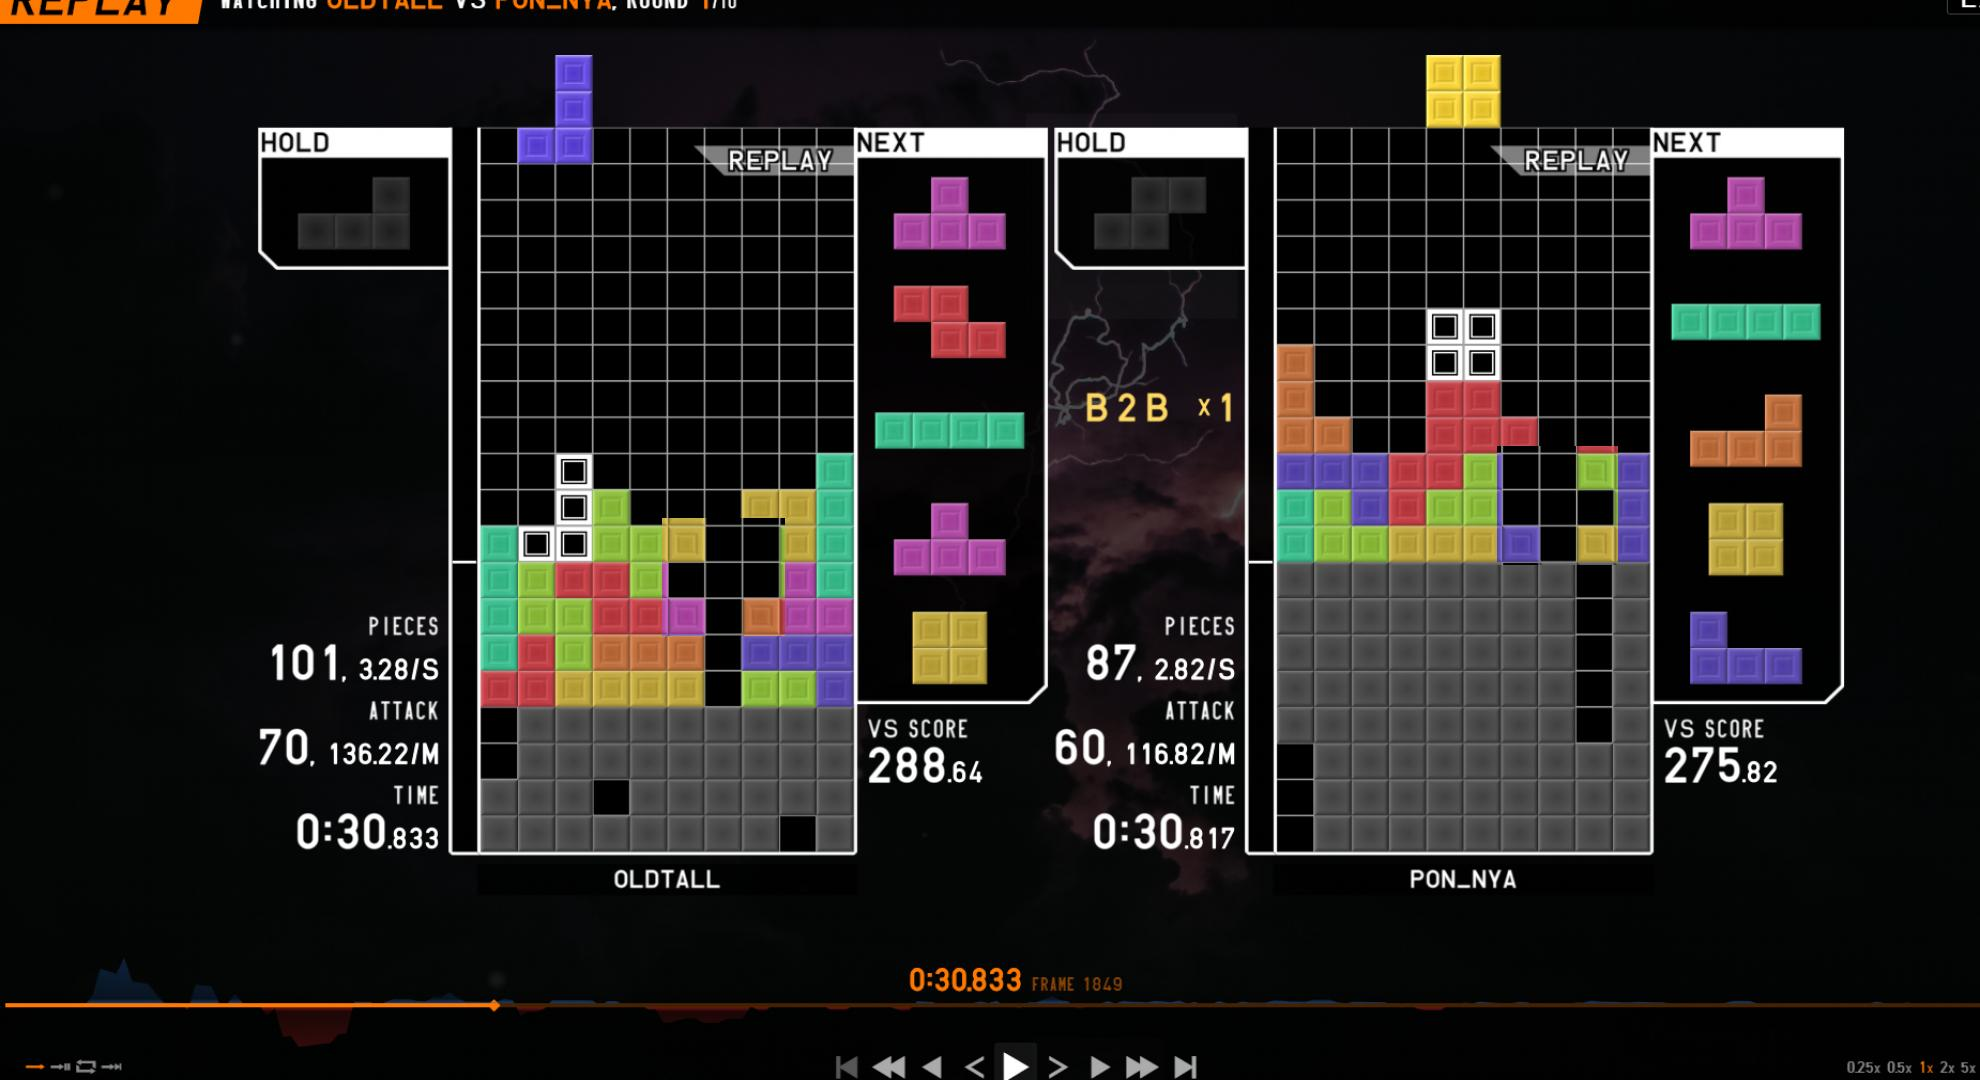tspin: (1497, 446, 1618, 565), (662, 519, 785, 636)
